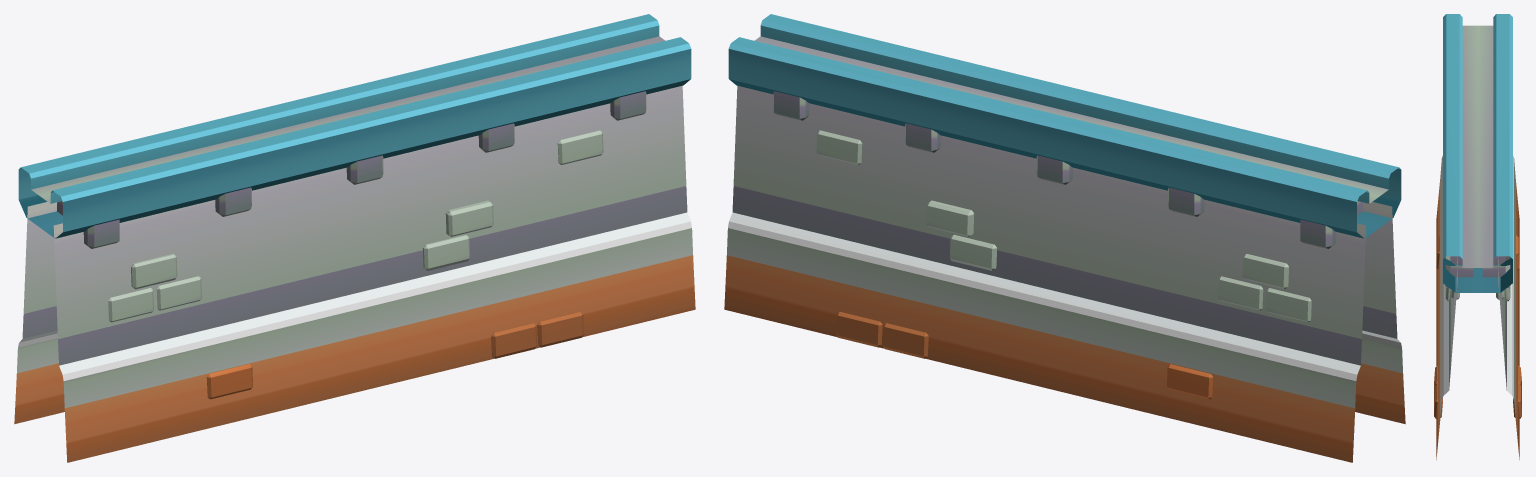
Rendered from sand-wall.obj.
3 views of the same model, side by side, from view 1: azimuth 30°, elevation 25°; view 2: azimuth 150°, elevation 25°; view 3: azimuth 270°, elevation 25° (orthographic). The views are drawn at different scales.
Parts seen in each view (by area): view 1: sand-wall; view 2: sand-wall; view 3: sand-wall.
Boxes of the visible parts, x1=… form: sand-wall: x1=14, y1=14, x2=695, y2=462; sand-wall: x1=724, y1=14, x2=1405, y2=462; sand-wall: x1=1434, y1=14, x2=1521, y2=459.
Bounding box in the file's own units: 56.63 × 22.53 × 8.69.
Materials: 1 (1 with a texture image).
